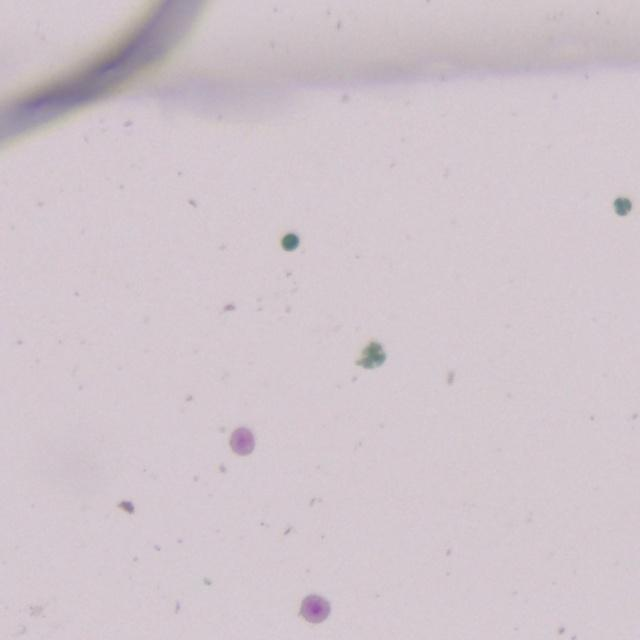intermediate: (300, 594, 330, 623), (229, 426, 254, 455)
non_viable: (613, 197, 632, 216), (281, 233, 299, 251)
